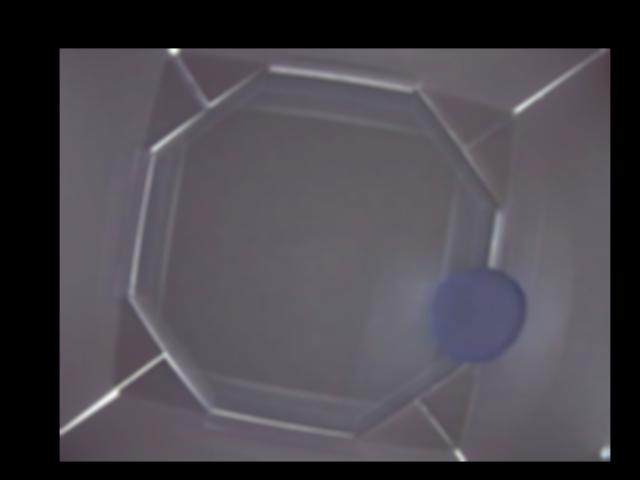Mooli: (430, 268, 527, 361)
